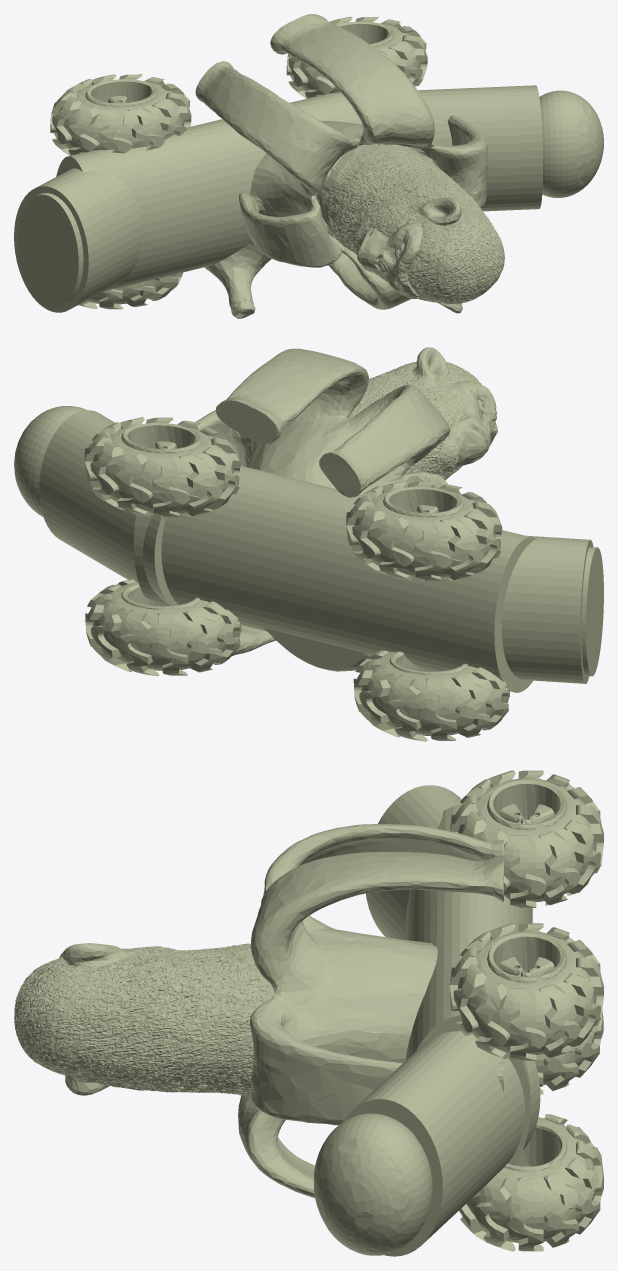
Rendered from tinker 1.obj.
3 renders of one model, top to bottom at view 1: azimuth 30°, elevation 25°; view 2: azimuth 150°, elevation 25°; view 3: azimuth 270°, elevation 25°, orthographic. The views are drawn at different scales.
Visible parts, largest first — view 1: obj_0; view 2: obj_0; view 3: obj_0.
Boxes of the visible parts, x1,y1,x2,y2 form: obj_0: (14,14,603,318); obj_0: (14,347,603,741); obj_0: (14,770,603,1256).
Size of the model in its own units: 91.99 by 39.57 by 65.01.
